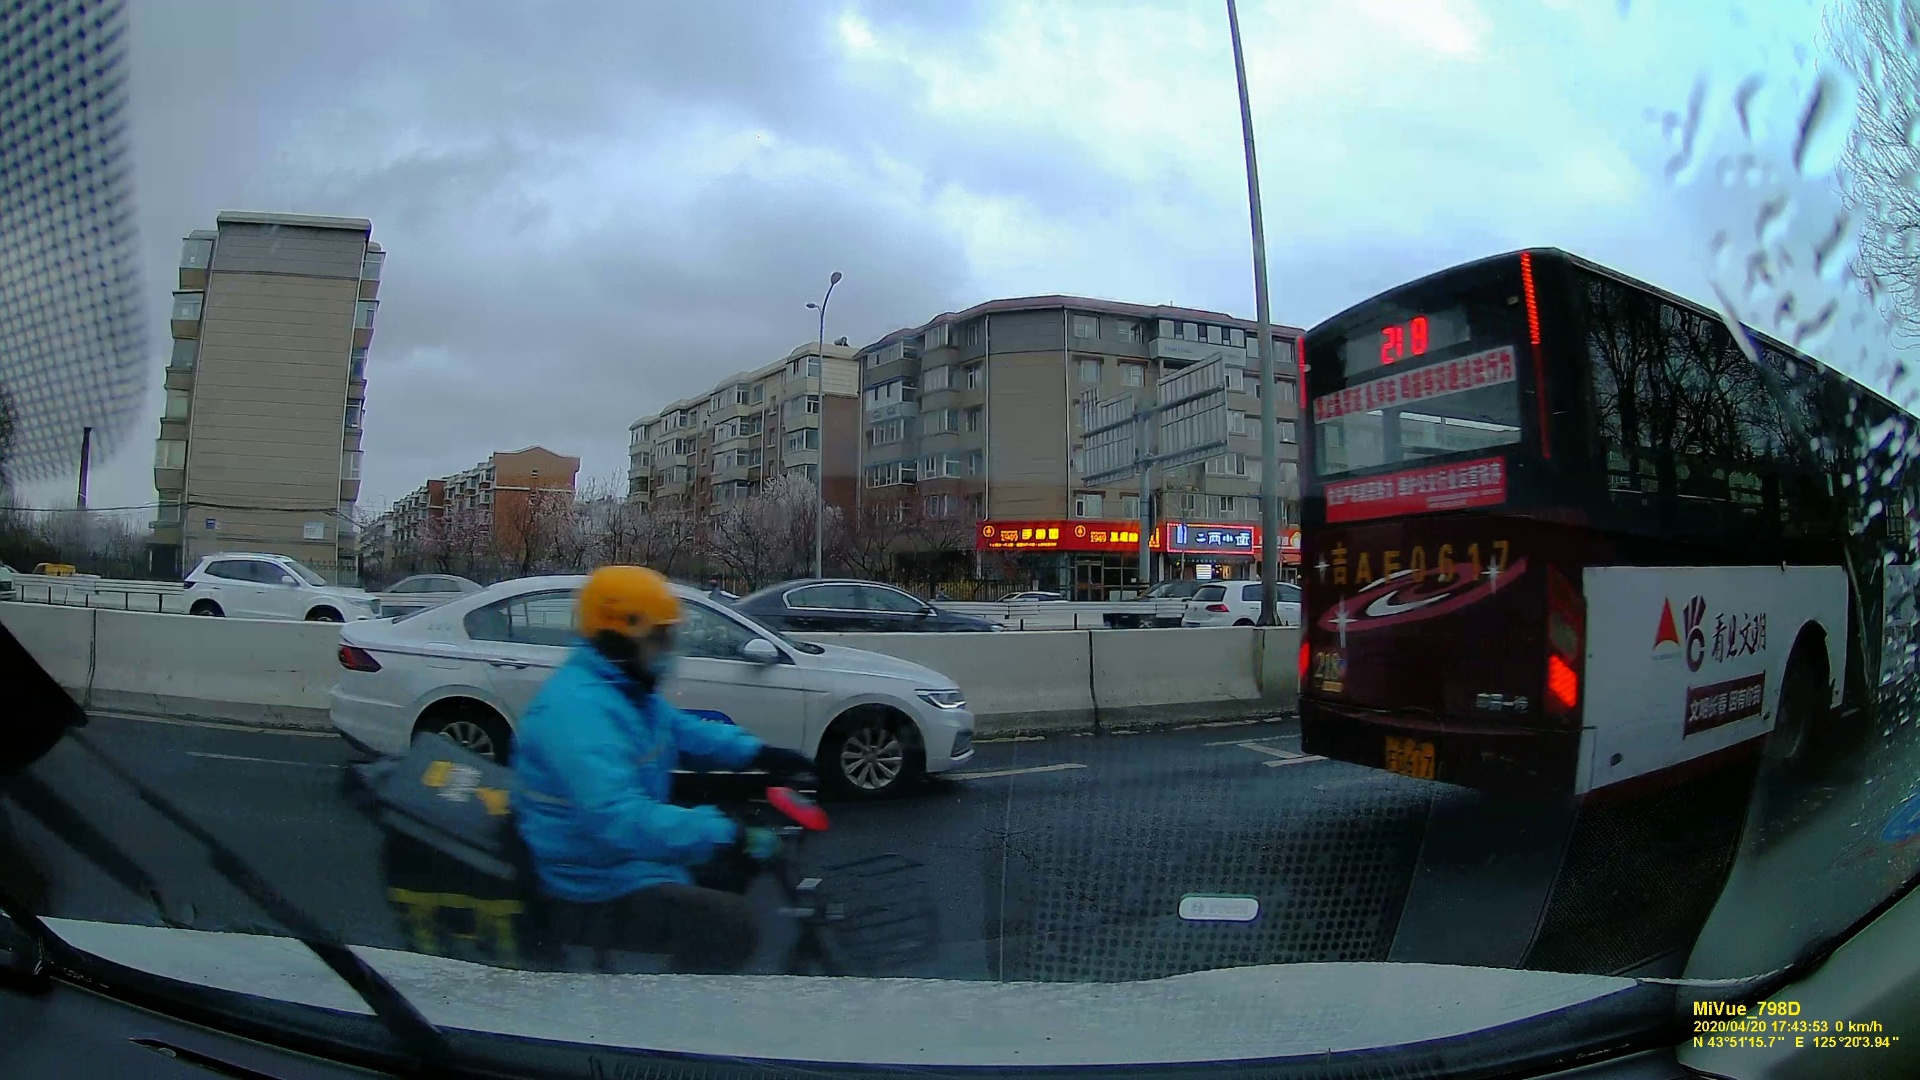bus: (1299, 260, 1909, 834)
person: (505, 569, 782, 957)
vehicle: (726, 599, 980, 805), (742, 573, 1001, 637), (183, 549, 376, 626), (1183, 576, 1297, 636)
